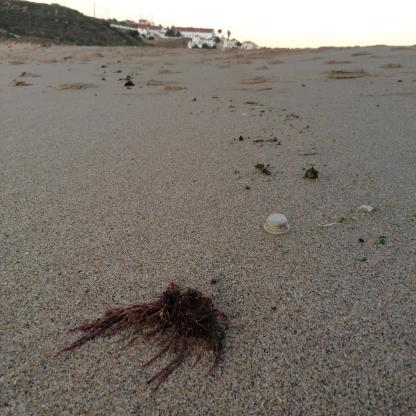plastik: (264, 214, 292, 236)
